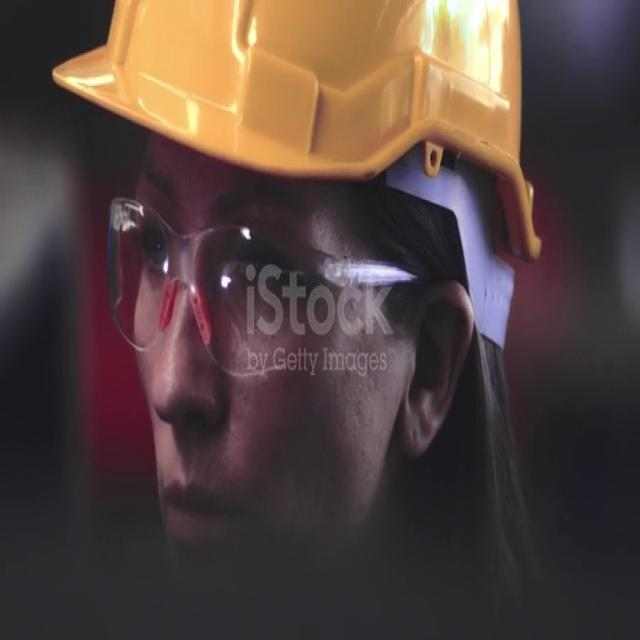capacete: (34, 9, 548, 269)
